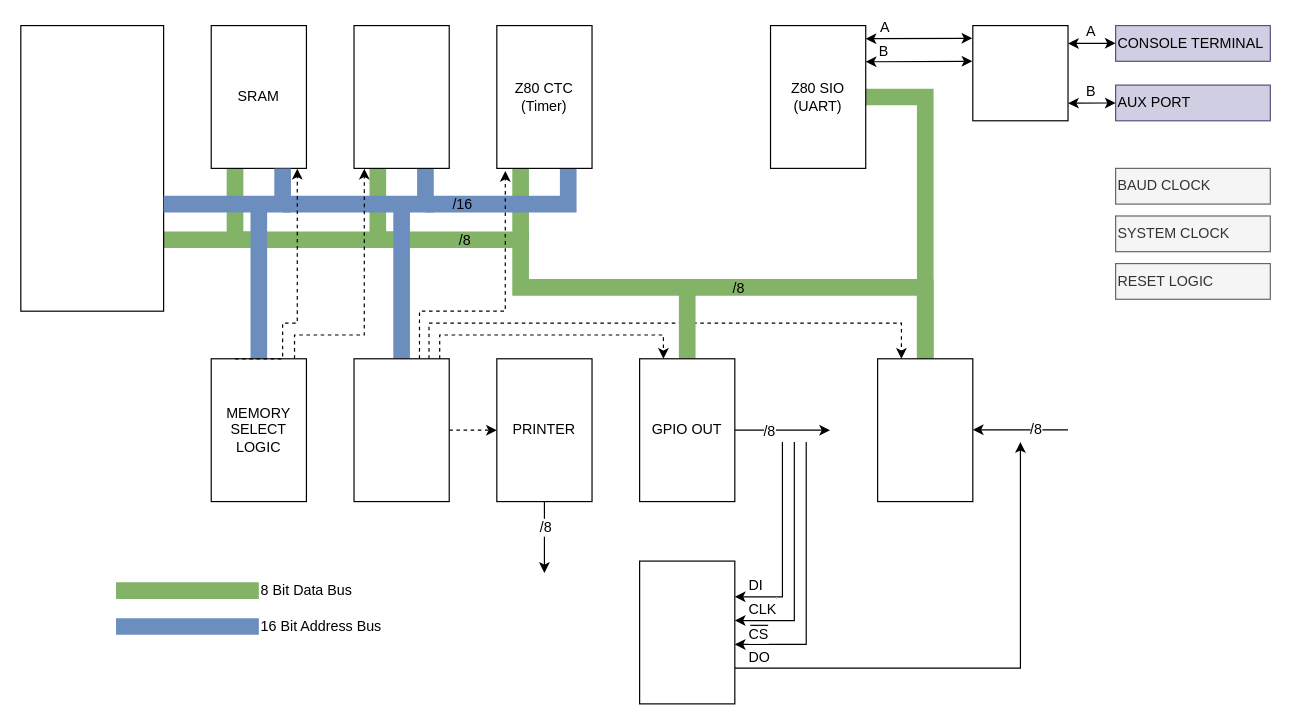
The diagram is 1291 pixels wide and 726 high, and some of its shapes have lost their labels. Here are the shapes that lost their labels. From the top down, the centre of each, then its label:
[1020,72]: RS232 DRIVER
[401,96]: BOOT ROM
[92,167]: Z80 CPU
[401,430]: IO SELECT LOGIC
[924,430]: GPIO IN
[686,632]: SD CARD
